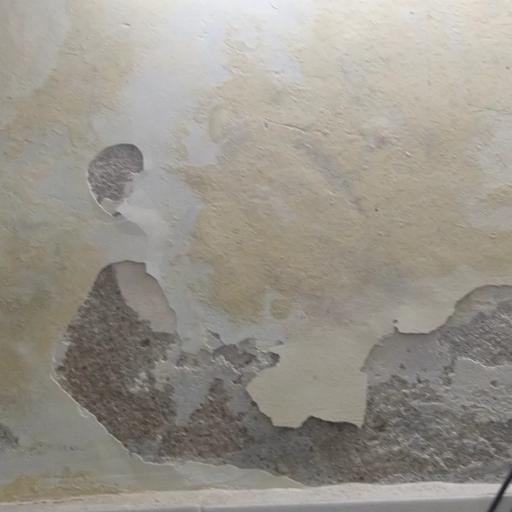peeling: (48, 255, 512, 502), (73, 136, 156, 217)
